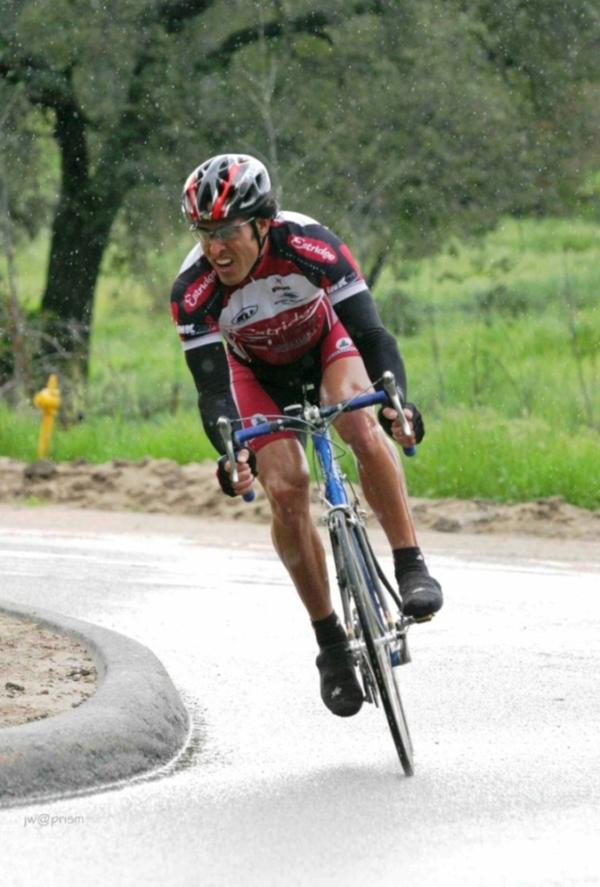person: (170, 155, 443, 720)
